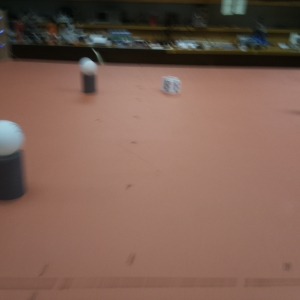obstacle: (1, 118, 27, 201), (80, 57, 98, 94)
